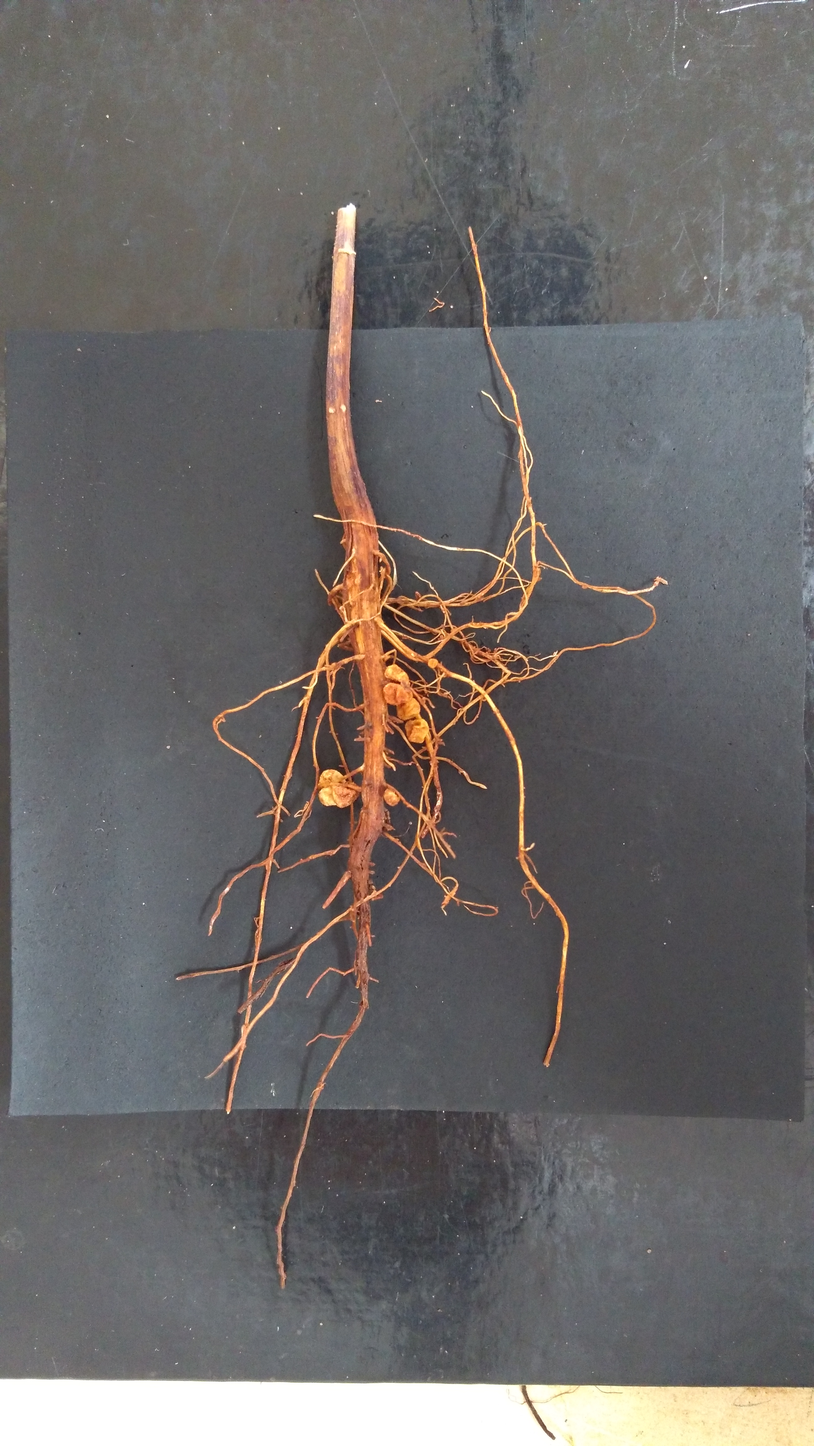nodule: (318, 769, 347, 806), (331, 781, 360, 808), (383, 683, 413, 706), (384, 664, 410, 687), (396, 697, 420, 721), (405, 719, 429, 743), (384, 788, 400, 807), (382, 808, 391, 831), (374, 617, 384, 631), (396, 596, 409, 605), (428, 658, 438, 668), (475, 595, 482, 602), (379, 566, 385, 573), (437, 635, 444, 641), (460, 601, 466, 606), (582, 585, 587, 589)
